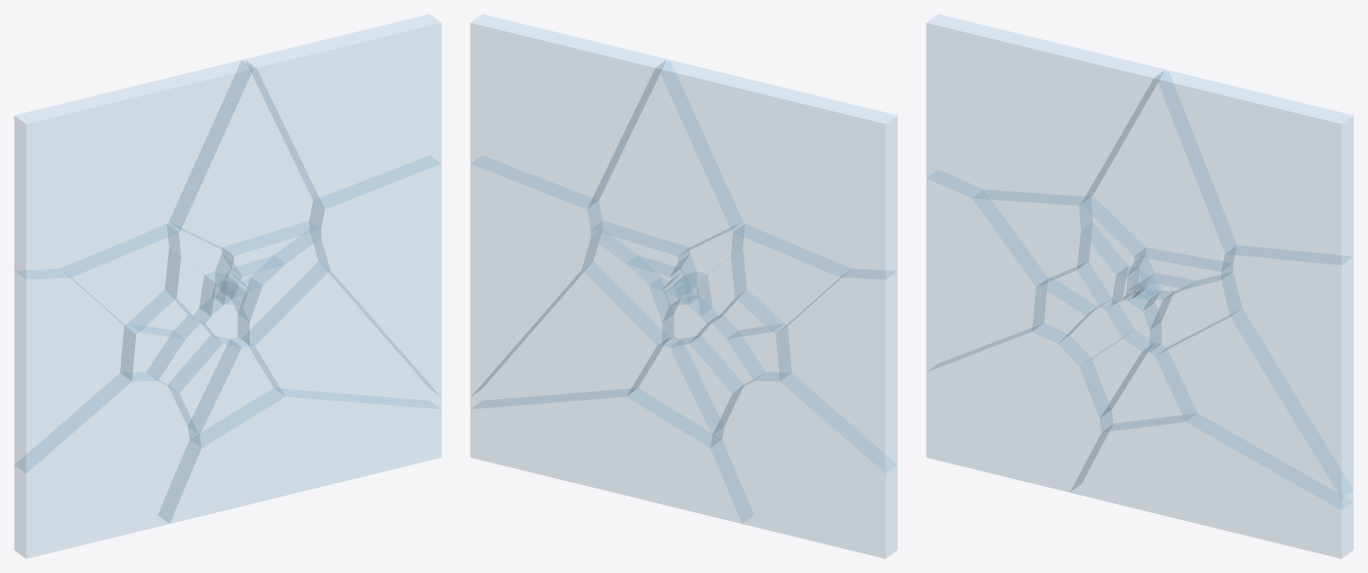
Rendered from GlassPane.fracture.glb.
3 renders of one model, left to right at view 1: azimuth 30°, elevation 25°; view 2: azimuth 150°, elevation 25°; view 3: azimuth 330°, elevation 25°, orthographic.
Visible parts, largest first — view 1: Piece21, Piece4, Piece14, Piece23, Piece1, Piece16, Piece19, Piece5, Piece25, Piece7, Piece10, Piece27 (+10 smaller); view 2: Piece21, Piece4, Piece14, Piece23, Piece1, Piece16, Piece19, Piece5, Piece25, Piece7, Piece10, Piece27 (+10 smaller); view 3: Piece21, Piece4, Piece23, Piece14, Piece1, Piece5, Piece19, Piece16, Piece25, Piece7, Piece10, Piece27 (+10 smaller).
Boxes of the visible parts, x1,y1,x2,y2 form: Piece21: [14, 60, 252, 279]; Piece4: [245, 14, 441, 208]; Piece14: [14, 373, 201, 558]; Piece23: [158, 388, 441, 523]; Piece1: [310, 156, 441, 396]; Piece16: [14, 269, 135, 473]; Piece19: [169, 59, 324, 255]; Piece5: [248, 262, 441, 408]; Piece25: [61, 224, 180, 333]; Piece7: [188, 337, 285, 447]; Piece10: [238, 232, 329, 345]; Piece27: [168, 336, 241, 434]; Piece21: [659, 60, 897, 279]; Piece4: [470, 14, 666, 208]; Piece14: [710, 373, 897, 558]; Piece23: [470, 388, 753, 523]; Piece1: [470, 156, 601, 396]; Piece16: [776, 269, 897, 473]; Piece19: [587, 59, 742, 255]; Piece5: [470, 262, 663, 408]; Piece25: [731, 224, 850, 333]; Piece7: [626, 337, 723, 447]; Piece10: [582, 232, 673, 345]; Piece27: [670, 336, 743, 434]; Piece21: [926, 14, 1164, 205]; Piece4: [1157, 70, 1353, 264]; Piece23: [1070, 414, 1353, 558]; Piece14: [926, 323, 1112, 492]; Piece1: [1221, 245, 1353, 498]; Piece5: [1155, 309, 1353, 510]; Piece19: [1081, 70, 1236, 271]; Piece16: [926, 170, 1047, 371]; Piece25: [972, 190, 1092, 286]; Piece7: [1100, 345, 1196, 431]; Piece10: [1150, 272, 1241, 355]; Piece27: [1080, 330, 1149, 417].
Size of the model in its own units: 8 by 8 by 0.4.
